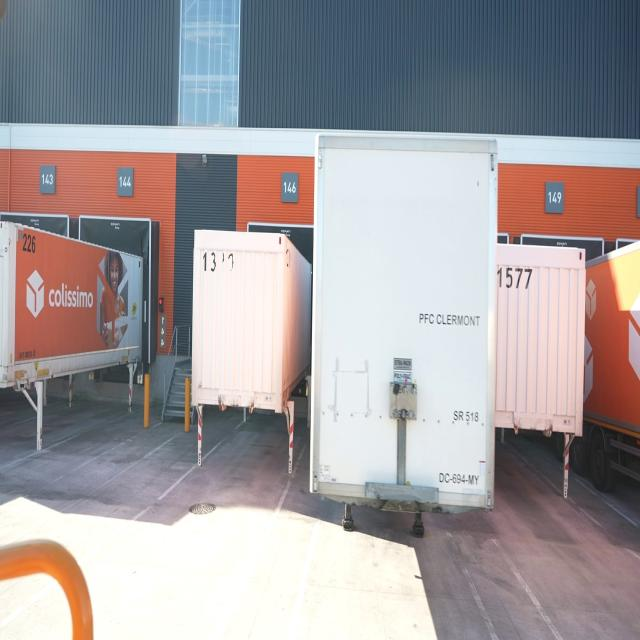Code: (496, 262, 537, 298), (199, 246, 238, 282), (20, 227, 38, 259)
